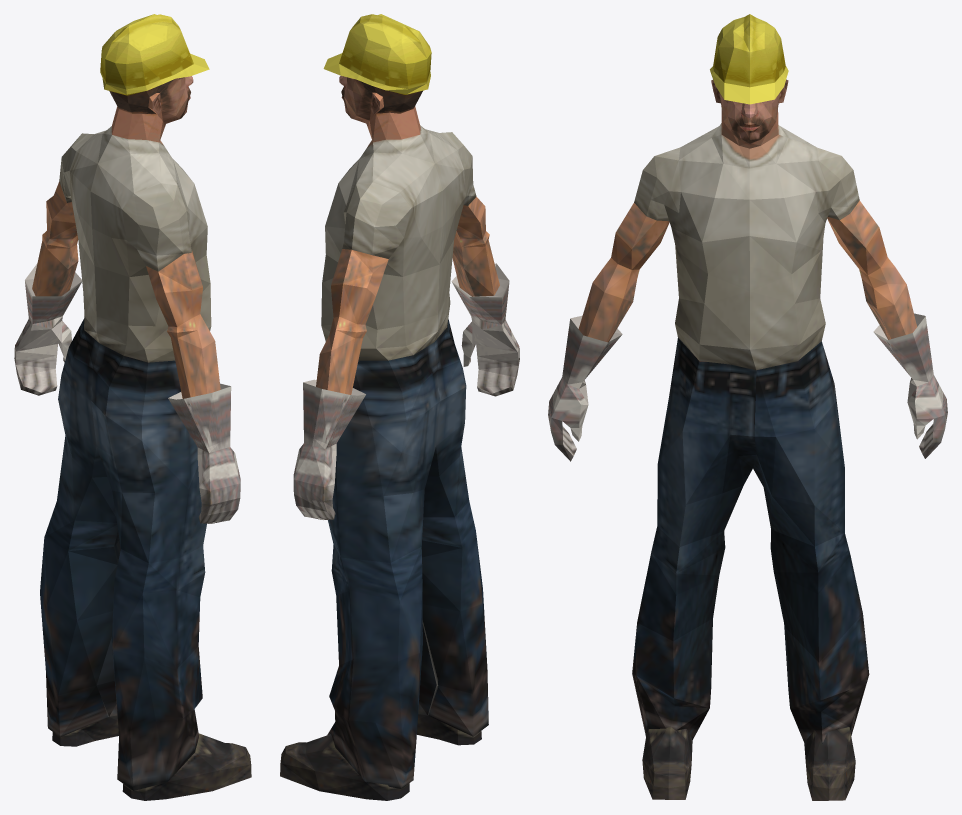
File: wmycon.obj
The picture shows the model from 3 angles, left to right: view 1: azimuth 30°, elevation 25°; view 2: azimuth 150°, elevation 25°; view 3: azimuth 270°, elevation 25°; orthographic projection.
Parts seen in each view (by area): view 1: _Pelvis; view 2: _Pelvis; view 3: _Pelvis.
Boxes of the visible parts, x1,y1,x2,y2 form: _Pelvis: (14,14,251,800); _Pelvis: (280,14,519,800); _Pelvis: (548,14,947,800).
Bounding box in the file's own units: 0.3632 × 1.93 × 0.927.
1 material, 1 textured.
